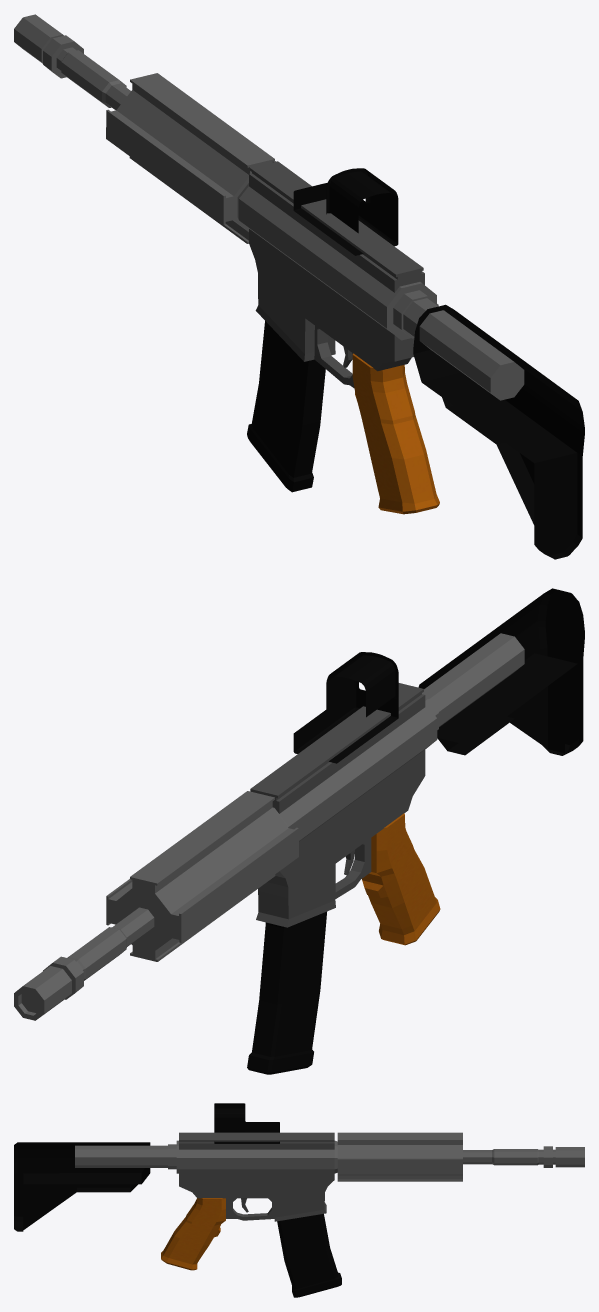
The model's file is AssaultRifle.glb.
3 renders of one model, top to bottom at view 1: azimuth 30°, elevation 25°; view 2: azimuth 150°, elevation 25°; view 3: azimuth 270°, elevation 25°, orthographic. The views are drawn at different scales.
Visible parts, largest first — view 1: Weapon, Magazine, HolographicSight; view 2: Weapon, Magazine, HolographicSight; view 3: Weapon, Magazine, HolographicSight.
Part boxes in pixels (left/top/right/bottom): Weapon: left=14, top=14, right=584, bottom=559; Magazine: left=247, top=321, right=325, bottom=492; HolographicSight: left=294, top=168, right=398, bottom=255; Weapon: left=14, top=588, right=584, bottom=1020; Magazine: left=247, top=911, right=327, bottom=1074; HolographicSight: left=293, top=652, right=398, bottom=763; Weapon: left=14, top=1122, right=584, bottom=1270; Magazine: left=277, top=1214, right=341, bottom=1297; HolographicSight: left=214, top=1103, right=279, bottom=1143.
Bounding box in the file's own units: 0.3599 × 1.62 × 4.45.
1 material, 1 textured.
